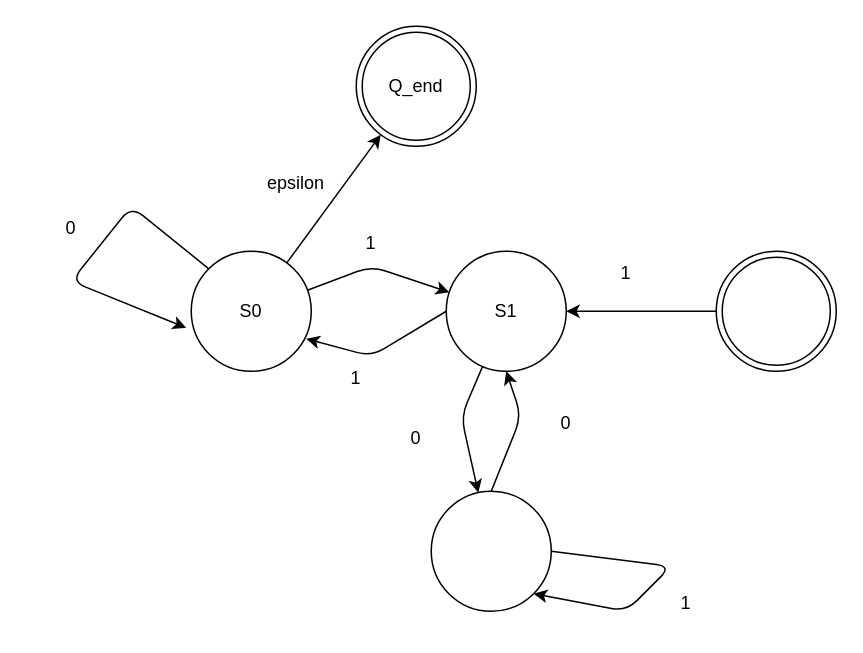
Some shapes in this 863 by 653 pixel diagram are drawn without their labels. Here are the shapes that lost their labels. From the top down, the centre of each, then its label:
the point at 775,310: Q_start
the point at 490,550: S2
